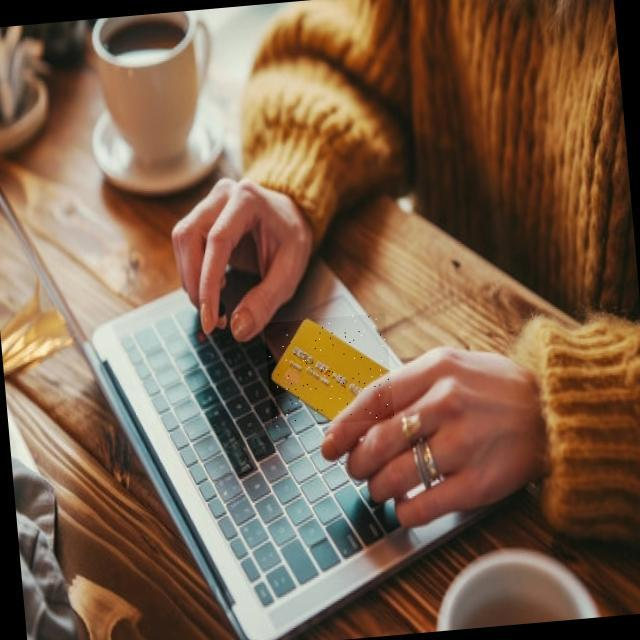payment_card: (269, 316, 391, 422)
